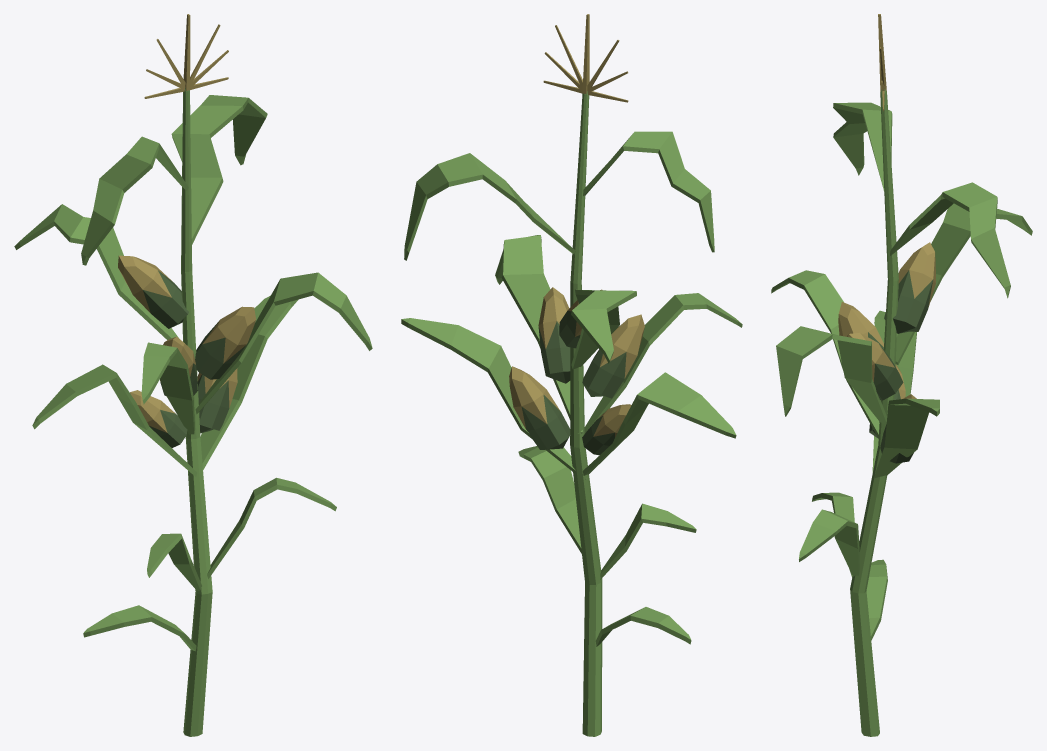
The model's file is Corn_4.gltf.
3 views of the same model, side by side, from view 1: azimuth 30°, elevation 25°; view 2: azimuth 150°, elevation 25°; view 3: azimuth 270°, elevation 25° (orthographic).
Parts seen in each view (by area): view 1: Corn_4; view 2: Corn_4; view 3: Corn_4.
Boxes of the visible parts, x1,y1,x2,y2 form: Corn_4: (14, 14, 372, 736); Corn_4: (401, 14, 742, 736); Corn_4: (771, 14, 1032, 736).
Bounding box in the file's own units: 0.8873 × 1.97 × 0.649.
